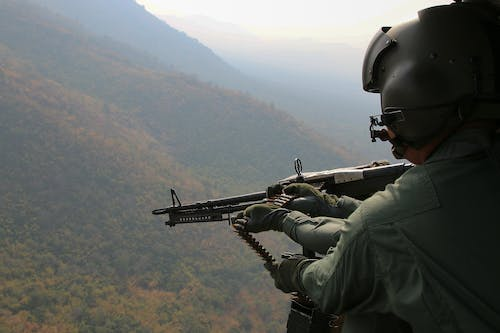gun: (150, 157, 416, 228)
